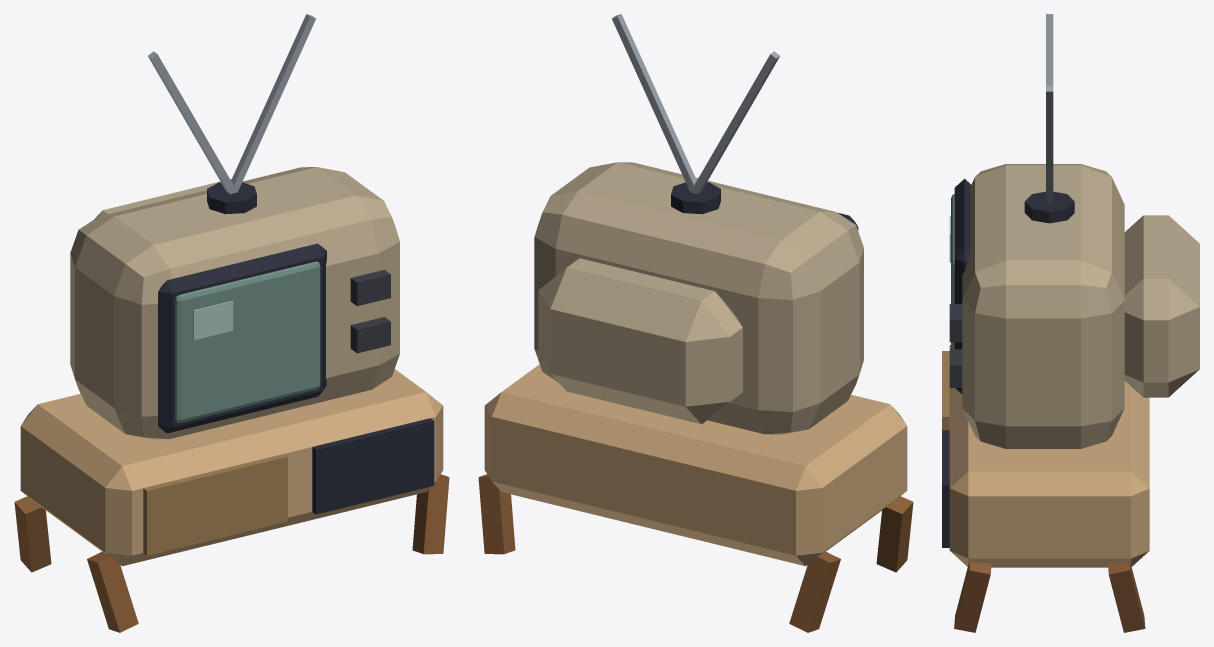
File: televisionCrt.glb
3 views of the same model, side by side, from view 1: azimuth 30°, elevation 25°; view 2: azimuth 150°, elevation 25°; view 3: azimuth 270°, elevation 25° (orthographic). The views are drawn at different scales.
Visible parts, largest first — view 1: televisionCrt; view 2: televisionCrt; view 3: televisionCrt.
Boxes of the visible parts, x1,y1,x2,y2 form: televisionCrt: [14, 14, 449, 632]; televisionCrt: [478, 14, 913, 632]; televisionCrt: [942, 14, 1199, 632].
Bounding box in the file's own units: 0.6241 × 0.8949 × 0.412.
1 material, 1 textured.
